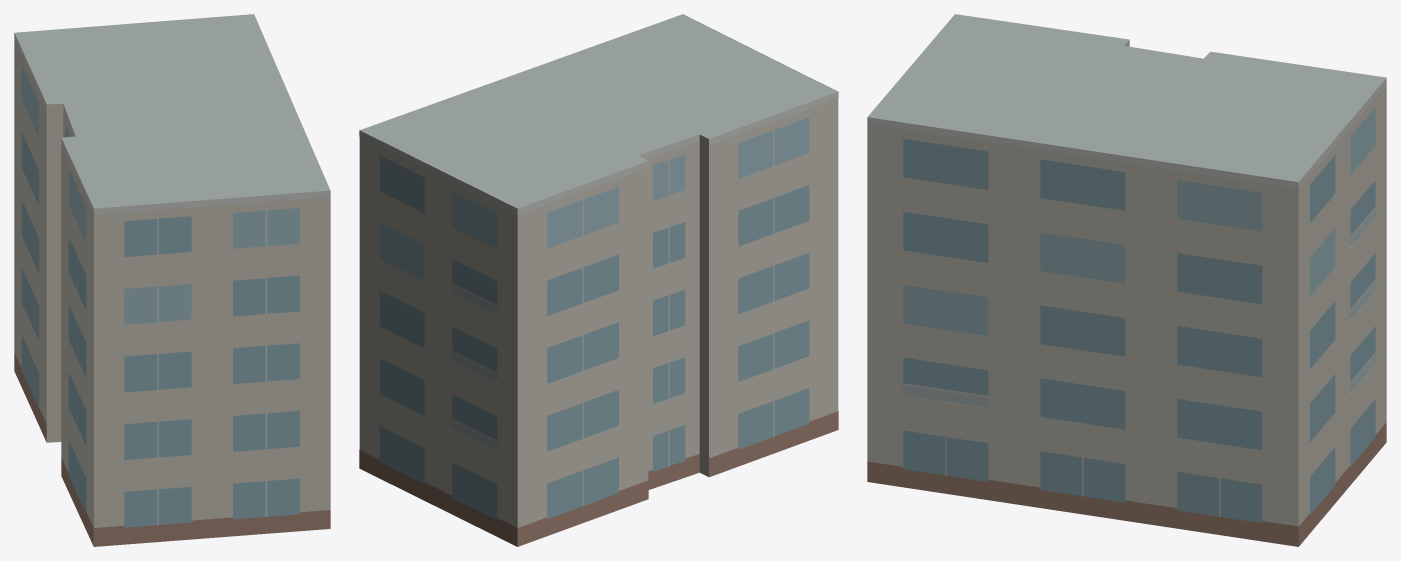
File: survey-upis-32956367.glb
3 views of the same model, side by side, from view 1: azimuth 30°, elevation 25°; view 2: azimuth 150°, elevation 25°; view 3: azimuth 270°, elevation 25° (orthographic). The views are drawn at different scales.
Parts seen in each view (by area): view 1: survey-upis-32956367.tmp; view 2: survey-upis-32956367.tmp; view 3: survey-upis-32956367.tmp.
Boxes of the visible parts, x1,y1,x2,y2 form: survey-upis-32956367.tmp: (14,14,330,546); survey-upis-32956367.tmp: (359,14,838,546); survey-upis-32956367.tmp: (867,14,1386,546).
Bounding box in the file's own units: 12.96 × 13.1 × 16.91.
